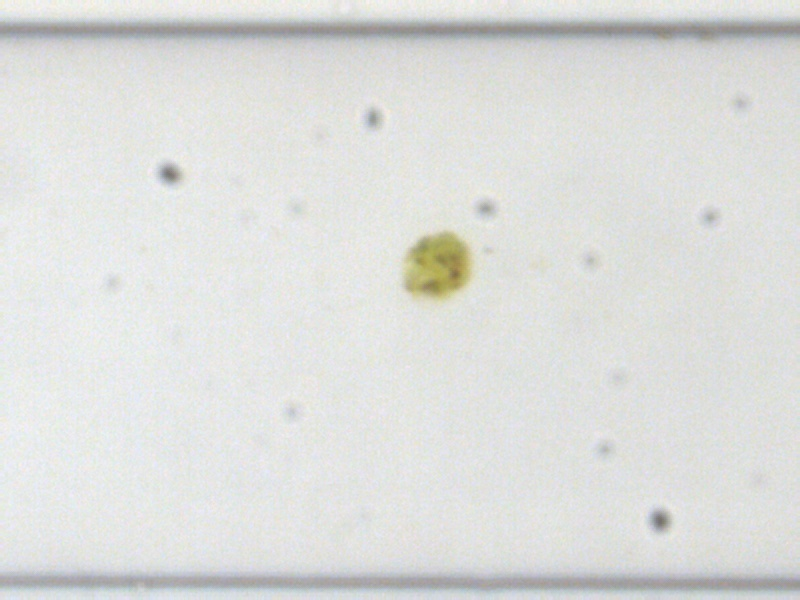Haematococcus: (396, 230, 474, 298)
